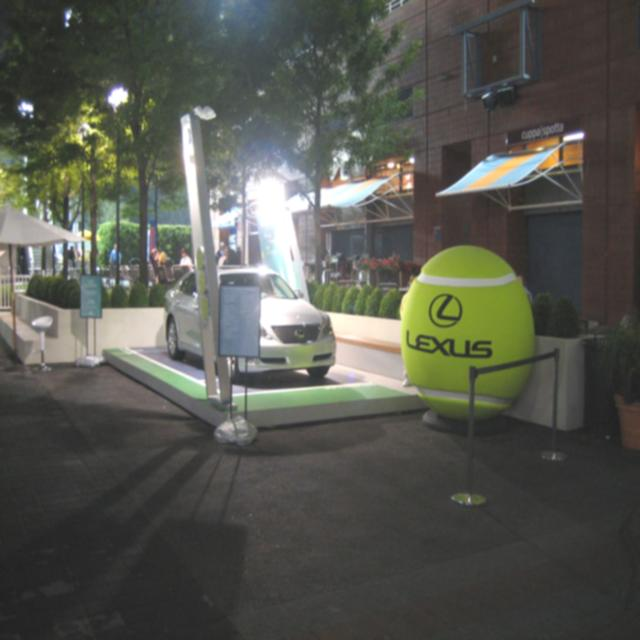Tennis ball: (402, 247, 538, 426)
